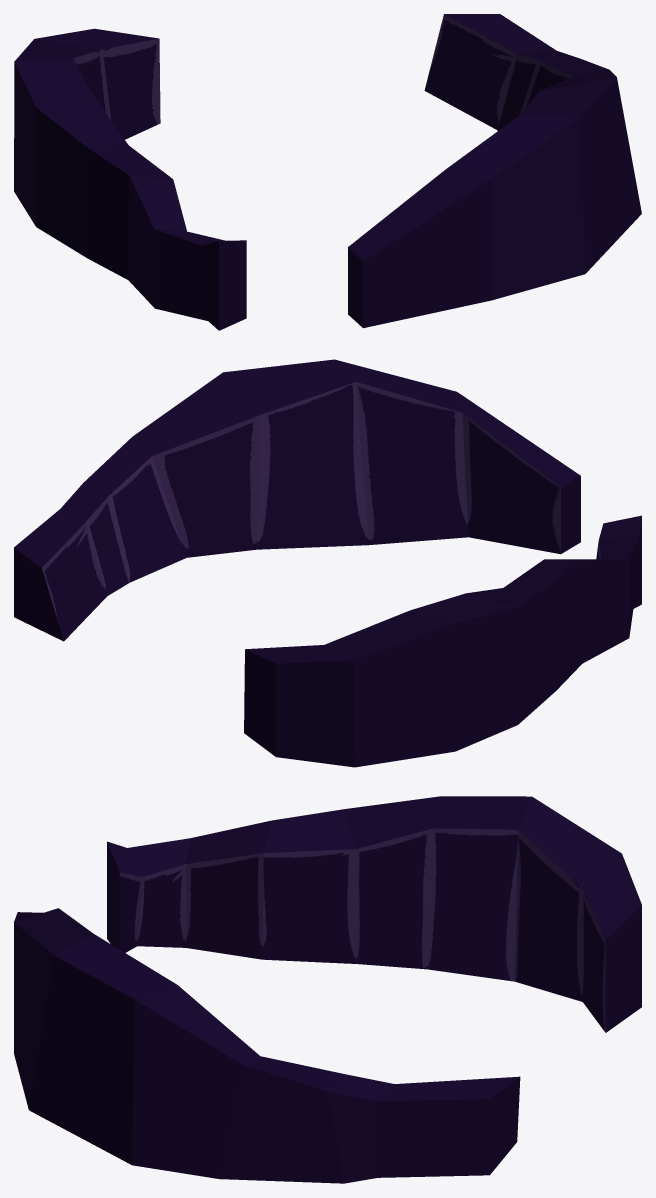
File: Rocks.fbx
3 renders of one model, top to bottom at view 1: azimuth 30°, elevation 25°; view 2: azimuth 150°, elevation 25°; view 3: azimuth 270°, elevation 25°, orthographic. The views are drawn at different scales.
Parts seen in each view (by area): view 1: Cube, Cube.001; view 2: Cube, Cube.001; view 3: Cube.001, Cube.
Part boxes in pixels (<box>): Cube: <box>348,14,641,328</box>; Cube.001: <box>14,28,246,330</box>; Cube: <box>14,359,580,641</box>; Cube.001: <box>244,515,641,767</box>; Cube.001: <box>107,796,641,1032</box>; Cube: <box>14,908,520,1183</box>.
Bounding box in the file's own units: 6413 × 1849 × 6398.
